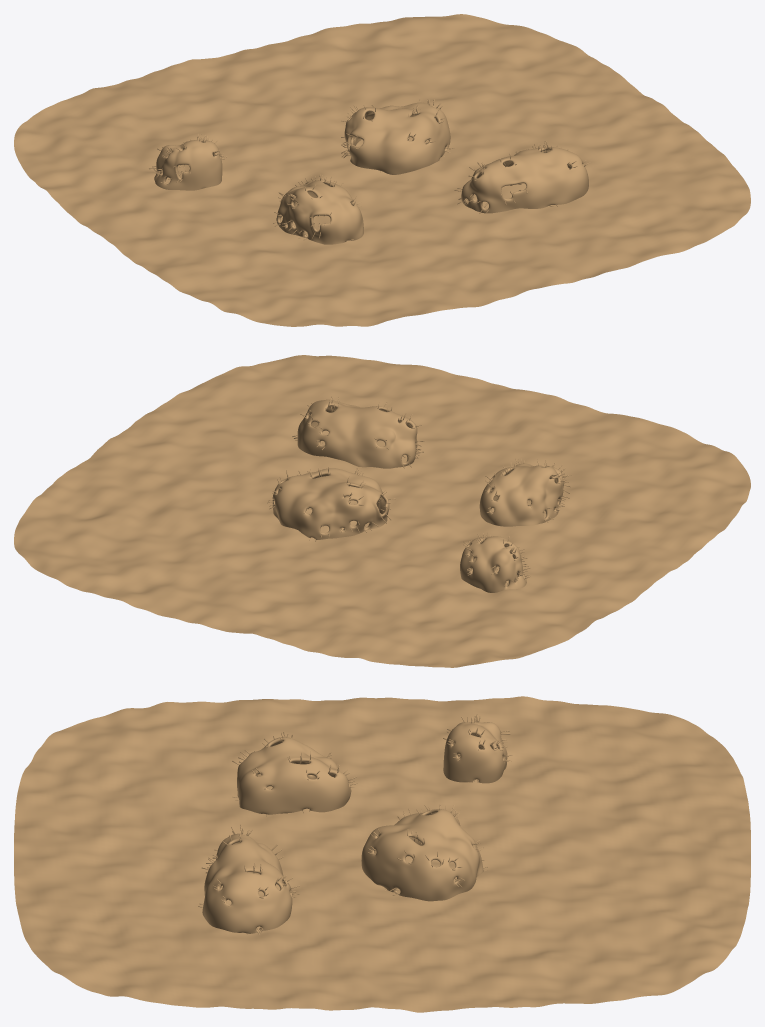
The model's file is GeoNodes.fbx.
3 views of the same model, one above another, from view 1: azimuth 30°, elevation 25°; view 2: azimuth 150°, elevation 25°; view 3: azimuth 270°, elevation 25° (orthographic). The views are drawn at different scales.
Parts seen in each view (by area): view 1: Plane.004, Plane.002, Plane.005, Plane.006, Plane.007; view 2: Plane.004, Plane.005, Plane.002, Plane.006, Plane.007; view 3: Plane.004, Plane.002, Plane.005, Plane.006, Plane.007.
Part boxes in pixels (x1=…): Plane.004: x1=14, y1=14, x2=750, y2=326; Plane.002: x1=341, y1=99, x2=453, y2=174; Plane.005: x1=454, y1=140, x2=590, y2=213; Plane.006: x1=273, y1=174, x2=363, y2=244; Plane.007: x1=149, y1=133, x2=227, y2=190; Plane.004: x1=14, y1=355, x2=750, y2=667; Plane.005: x1=292, y1=396, x2=424, y2=469; Plane.002: x1=267, y1=467, x2=395, y2=541; Plane.006: x1=479, y1=458, x2=571, y2=526; Plane.007: x1=460, y1=532, x2=530, y2=592; Plane.004: x1=14, y1=696, x2=750, y2=1012; Plane.002: x1=361, y1=804, x2=487, y2=901; Plane.005: x1=198, y1=824, x2=299, y2=934; Plane.006: x1=232, y1=732, x2=357, y2=816; Plane.007: x1=443, y1=714, x2=512, y2=783.
Size of the model in its own units: 50 by 4.89 by 50.
